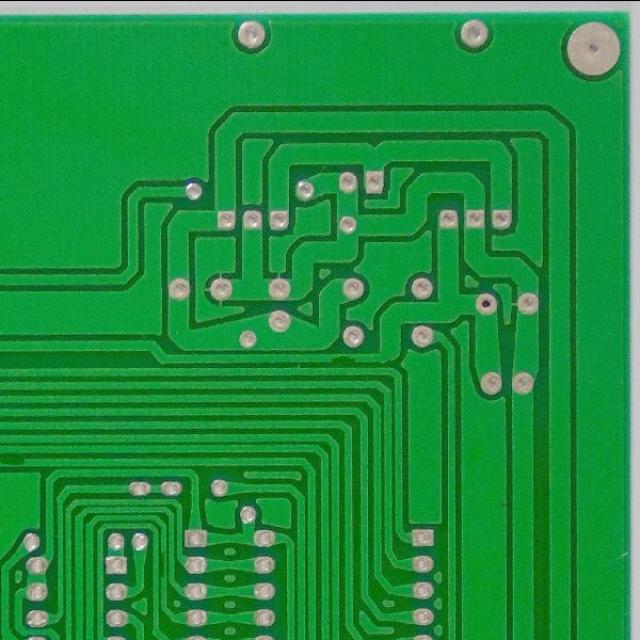mouse_bite: (328, 350, 362, 366), (156, 548, 170, 579), (1, 454, 31, 468)
